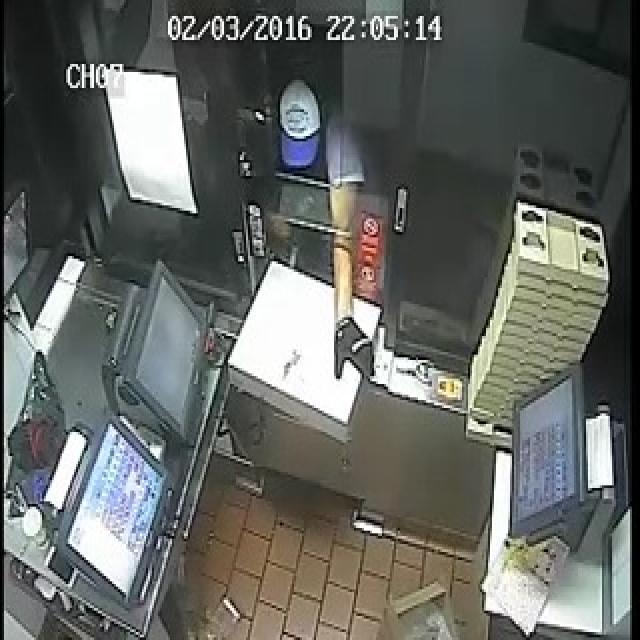thief: (265, 43, 365, 205)
